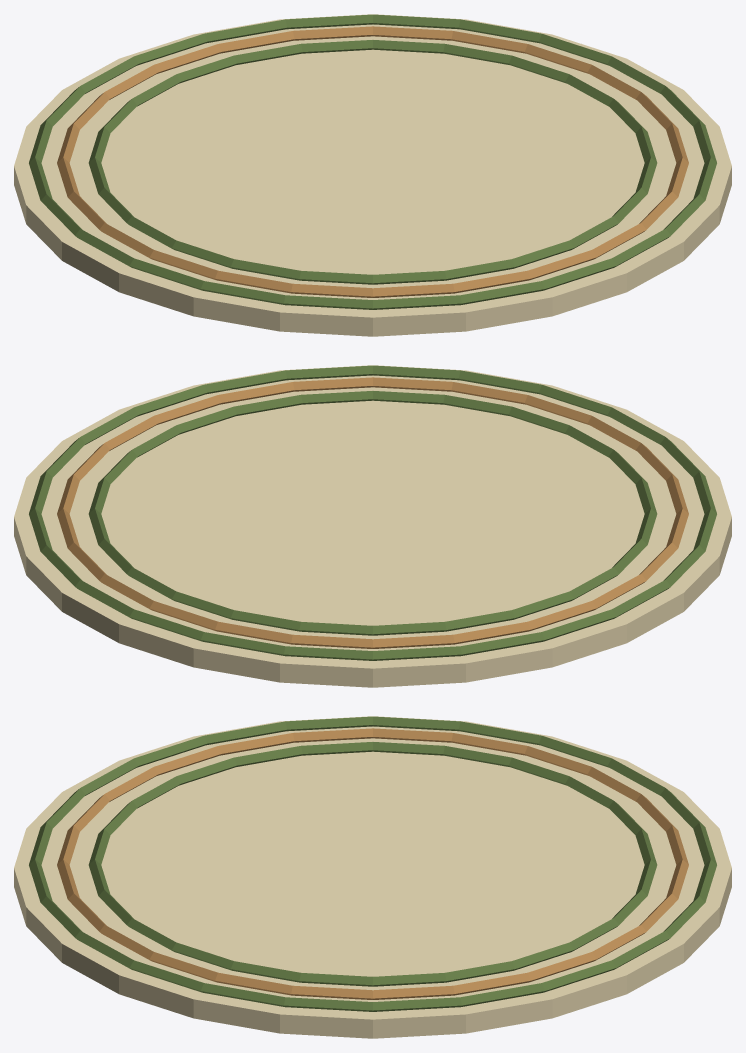
File: 12_Round_Camp_Mat.glb
3 renders of one model, top to bottom at view 1: azimuth 30°, elevation 25°; view 2: azimuth 150°, elevation 25°; view 3: azimuth 270°, elevation 25°, orthographic.
Visible parts, largest first — view 1: 12_Round_Camp_Mat__Body; view 2: 12_Round_Camp_Mat__Body; view 3: 12_Round_Camp_Mat__Body.
Boxes of the visible parts, x1=… form: 12_Round_Camp_Mat__Body: x1=14, y1=14, x2=731, y2=336; 12_Round_Camp_Mat__Body: x1=14, y1=365, x2=731, y2=687; 12_Round_Camp_Mat__Body: x1=14, y1=716, x2=731, y2=1038.
Bounding box in the file's own units: 2.04 × 0.087 × 2.04.
Materials: 1 (1 with a texture image).
